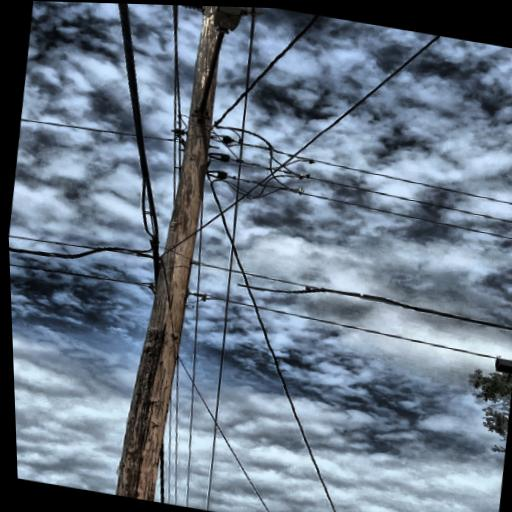pole: (84, 2, 267, 510)
street light: (184, 5, 251, 131)
